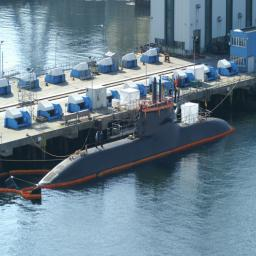submarine: (40, 90, 235, 187)
